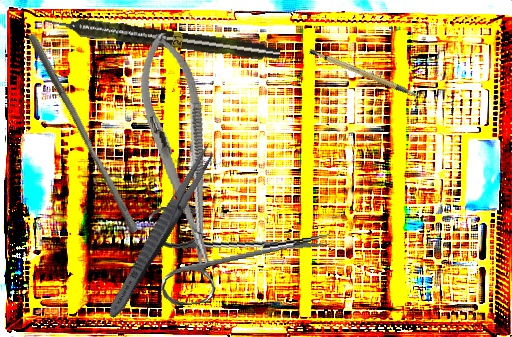Dressing Forceps: (102, 139, 221, 322)
Handpiece: (43, 10, 282, 65)
Iris Scissors: (147, 187, 336, 309)
Needle Holder: (129, 28, 231, 270)
Pusher: (19, 32, 146, 235)
Scalpel Handle: (307, 34, 422, 116)
